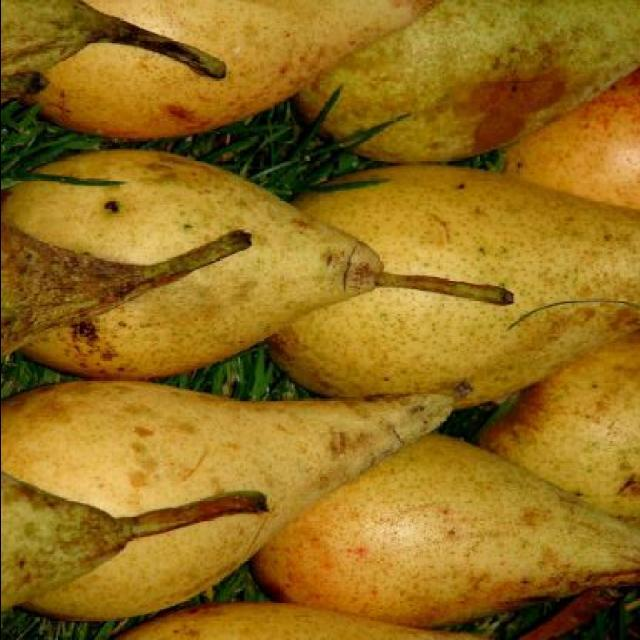Pear: (2, 0, 637, 638)
